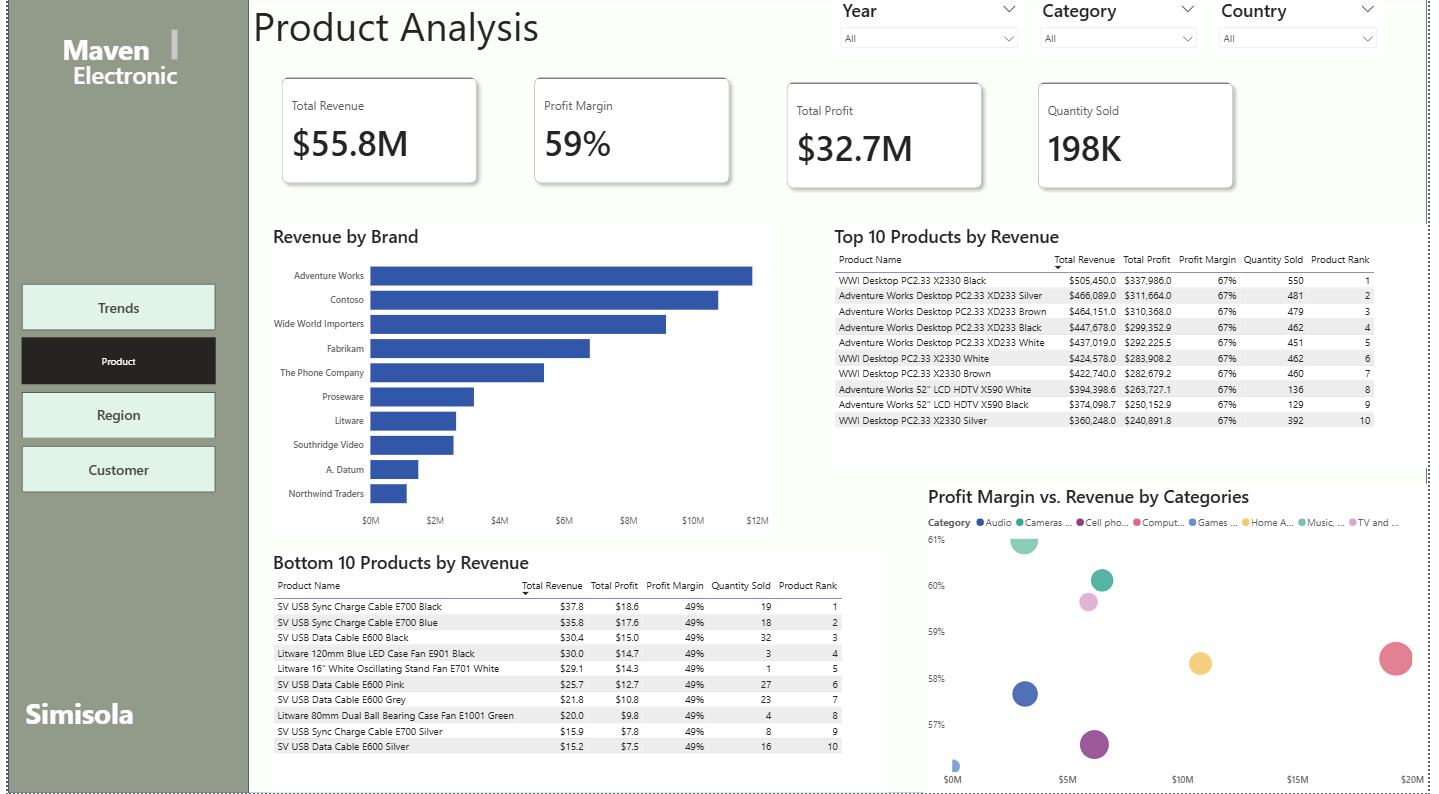

The page's visual inventory and layout, read from the dashboard file:
{"tool":"powerbi","page":{"name":"Product","canvas":[1920,1080],"ordinal":1},"visuals":[{"type":"shape","box":[2.4,0,1917.6,1080],"z":0},{"type":"clusteredBarChart","title":"Revenue by Brand","fields":{"Y":["Measure_.Total Revenue"],"Category":["Products.Brand"]},"box":[352.8,309.4,681.1,420.8],"z":1000},{"type":"scatterChart","title":"Profit Margin vs. Revenue by Categories","fields":{"X":["Measure_.Total Revenue"],"Y":["Product Measures.Profit Margin"],"Size":["Measure_.Quantity Sold"],"Series":["Products.Category"]},"box":[1239.6,660.4,681.1,418.9],"z":2000},{"type":"tableEx","title":"Top 10 Products by Revenue","fields":{"Values":["Products.Product Name","Measure_.Total Revenue","Measure_.Total Profit","Product Measures.Profit Margin","Measure_.Quantity Sold","Product Measures.Product Rank"]},"box":[1113.2,309.4,807.5,330.2],"z":3000},{"type":"tableEx","title":"Bottom 10 Products by Revenue","fields":{"Values":["Products.Product Name","Measure_.Total Revenue","Measure_.Total Profit","Product Measures.Profit Margin","Measure_.Quantity Sold","Product Measures.Product Rank"]},"box":[352.8,750.9,835.8,328.3],"z":4000},{"type":"slicer","fields":{"Values":["Calendar.Year"]},"box":[1116.2,0,260.5,81.4],"z":5000},{"type":"slicer","fields":{"Values":["Products.Category"]},"box":[1386.6,0,231.6,81.4],"z":6000},{"type":"slicer","fields":{"Values":["Stores.Country"]},"box":[1628.1,0,233.4,81.4],"z":7000},{"type":"shape","box":[0,0,325.6,1080],"z":8000},{"type":"textbox","box":[325.6,0,843,190],"z":9000},{"type":"cardVisual","fields":{"Data":["Product Measures.Profit Margin"]},"box":[694.3,94.1,298.5,177.3],"z":10000},{"type":"cardVisual","fields":{"Data":["Measure_.Total Revenue"]},"box":[352.8,94.1,298.5,177.3],"z":11000},{"type":"cardVisual","fields":{"Data":["Measure_.Total Profit"]},"box":[1035.8,101.3,298.5,177.3],"z":12000},{"type":"cardVisual","fields":{"Data":["Measure_.Quantity Sold"]},"box":[1376.7,101.3,298.5,177.3],"z":13000},{"type":"textbox","box":[66.9,41.6,166.4,54.3],"z":14000},{"type":"textbox","box":[83.2,81.4,217.1,57.9],"z":15000},{"type":"textbox","box":[18.1,942.5,381.7,88.6],"z":16000},{"type":"pageNavigator","box":[18.1,390.8,262.3,284],"z":17000}]}

Visuals, with their boxes in screenshot pixels (x1, y1, x2, y2), scaled from the page's 1920x1080 canvas onto the 1439x794 screenshot:
shape: locate(2, 0, 1438, 793)
"Revenue by Brand" clusteredBarChart: locate(264, 227, 775, 537)
"Profit Margin vs. Revenue by Categories" scatterChart: locate(929, 486, 1438, 793)
"Top 10 Products by Revenue" tableEx: locate(834, 227, 1438, 470)
"Bottom 10 Products by Revenue" tableEx: locate(264, 552, 891, 793)
slicer - Calendar.Year: locate(837, 0, 1032, 60)
slicer - Products.Category: locate(1039, 0, 1213, 60)
slicer - Stores.Country: locate(1220, 0, 1395, 60)
shape: locate(0, 0, 244, 793)
textbox: locate(244, 0, 876, 140)
cardVisual - Product Measures.Profit Margin: locate(520, 69, 744, 200)
cardVisual - Measure_.Total Revenue: locate(264, 69, 488, 200)
cardVisual - Measure_.Total Profit: locate(776, 74, 1000, 205)
cardVisual - Measure_.Quantity Sold: locate(1032, 74, 1256, 205)
textbox: locate(50, 31, 175, 71)
textbox: locate(62, 60, 225, 102)
textbox: locate(14, 693, 300, 758)
pageNavigator: locate(14, 287, 210, 496)
